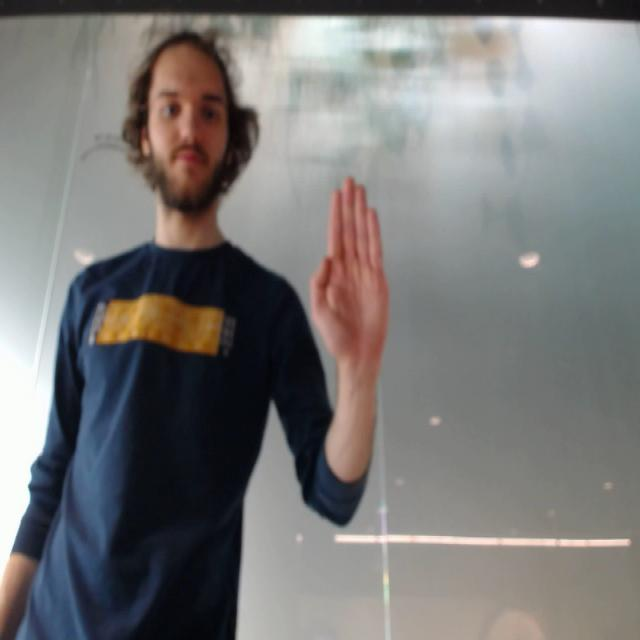backward: (308, 169, 394, 378)
